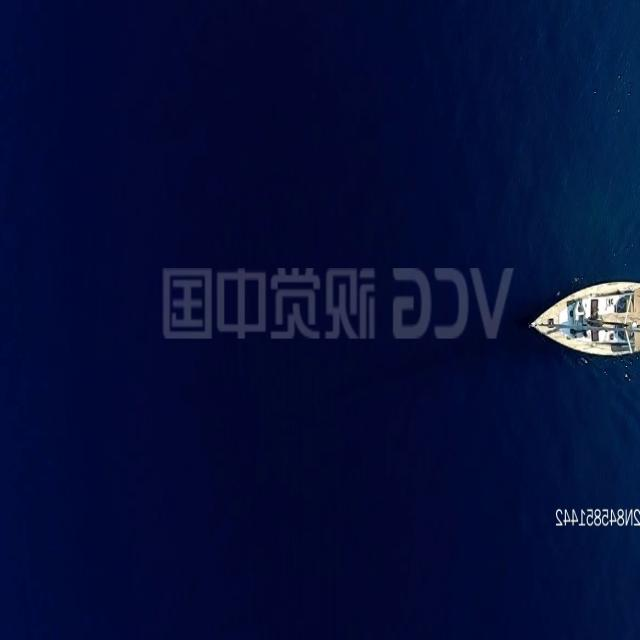sailboat: (529, 278, 640, 358)
